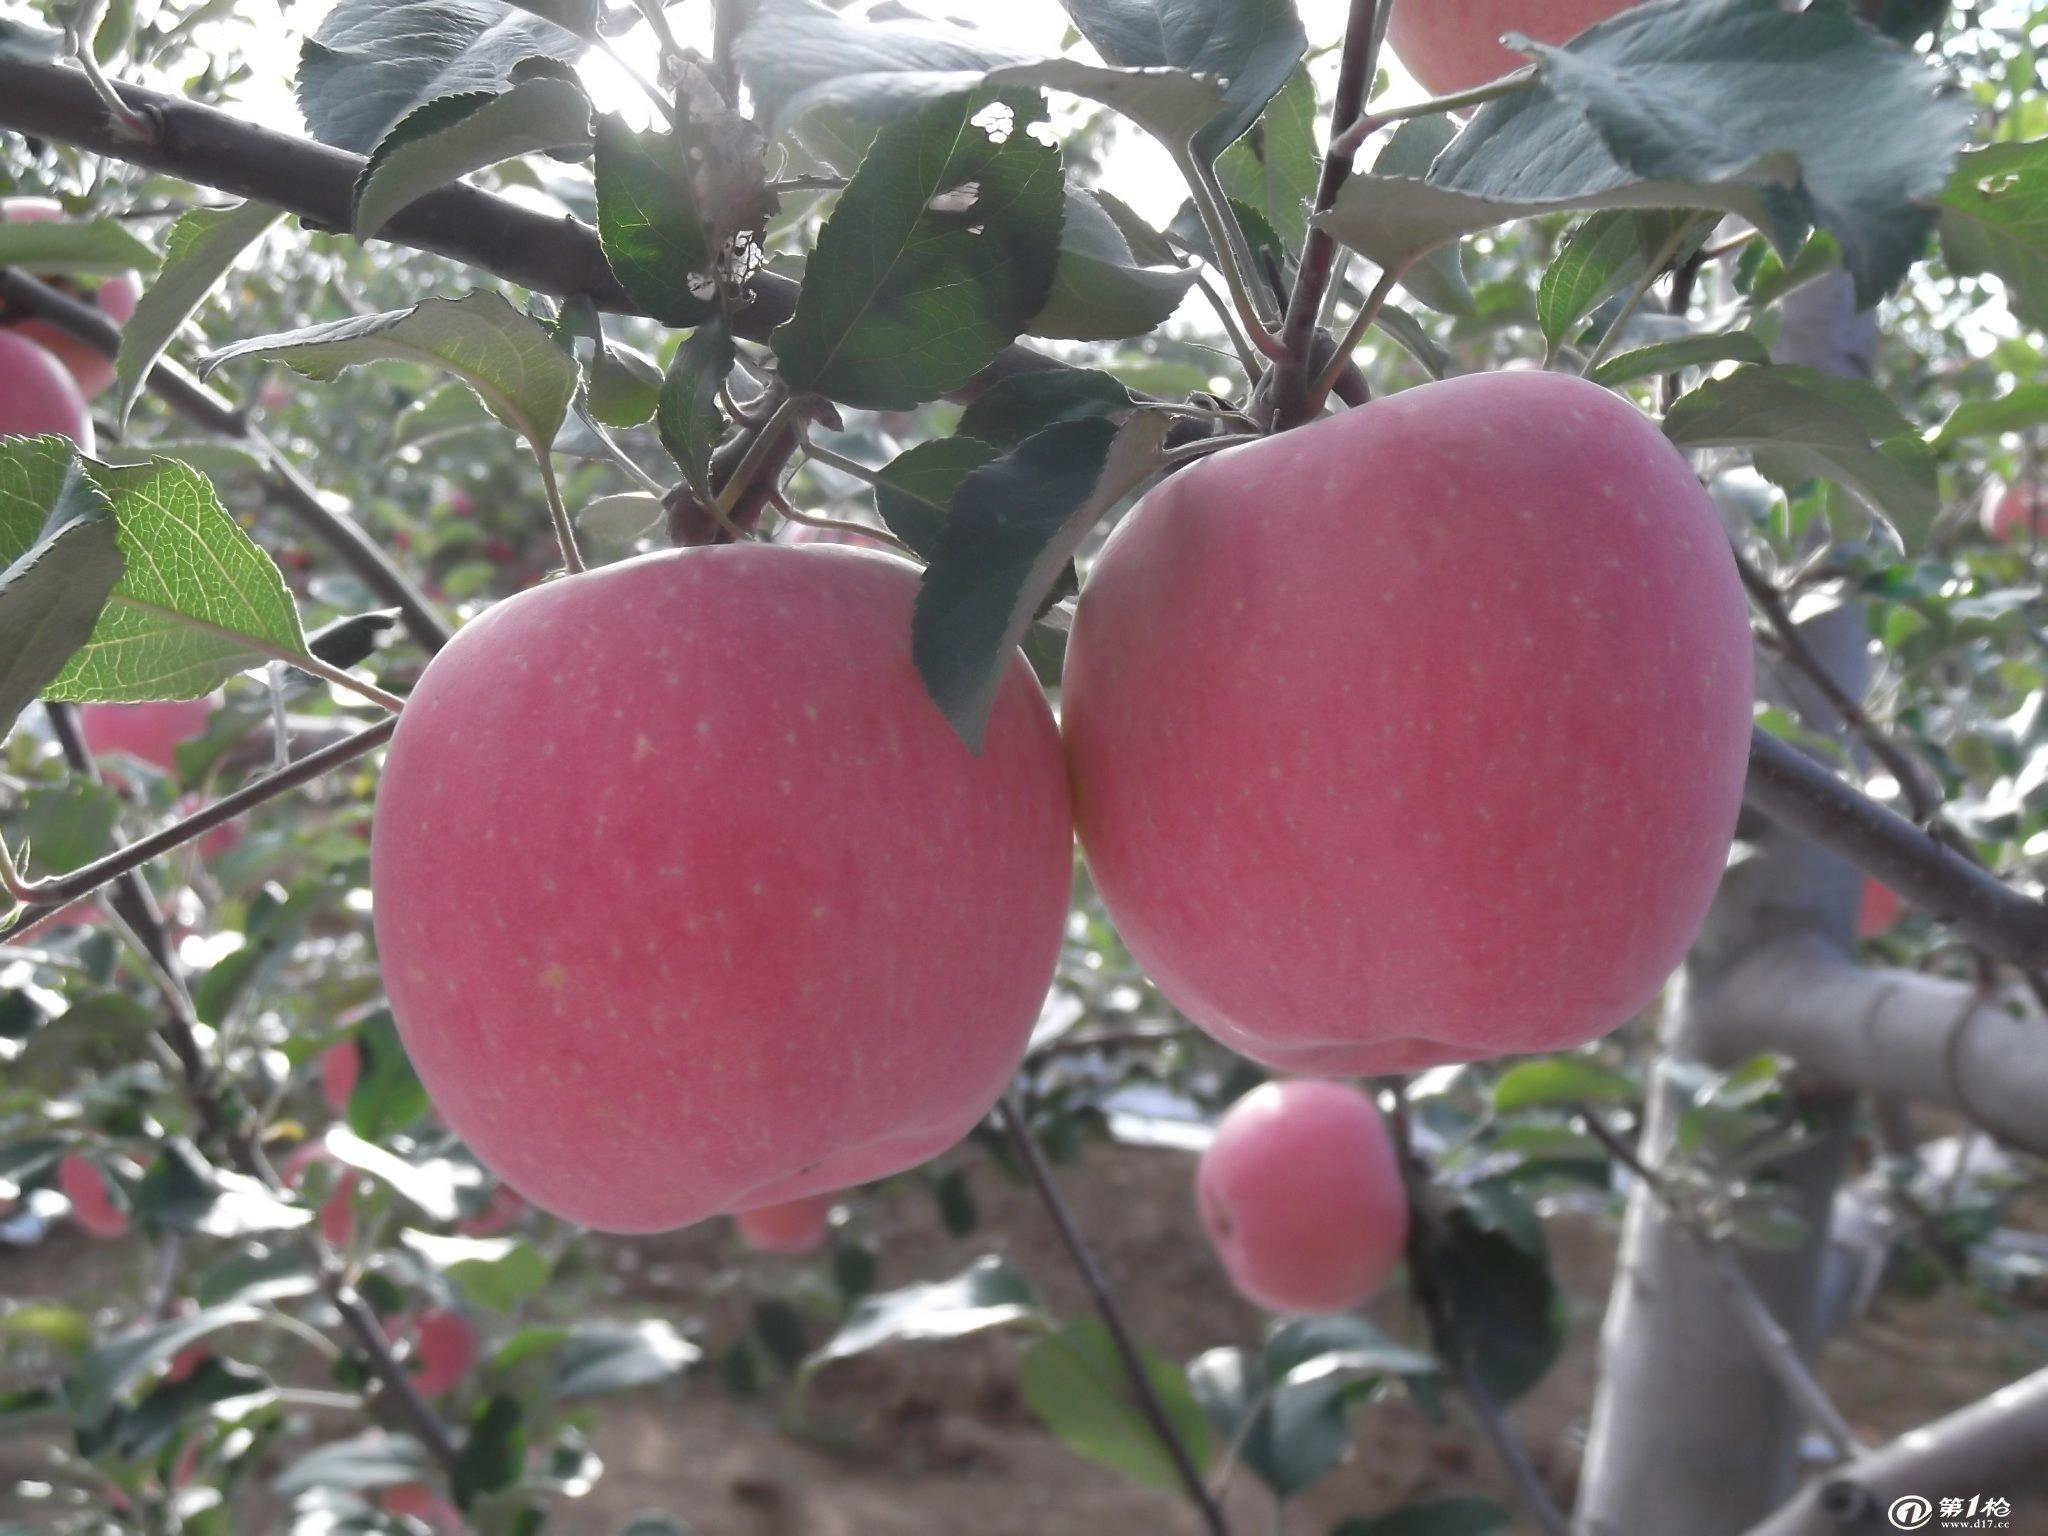apple: (1053, 386, 1748, 1094), (364, 553, 1059, 1249)
